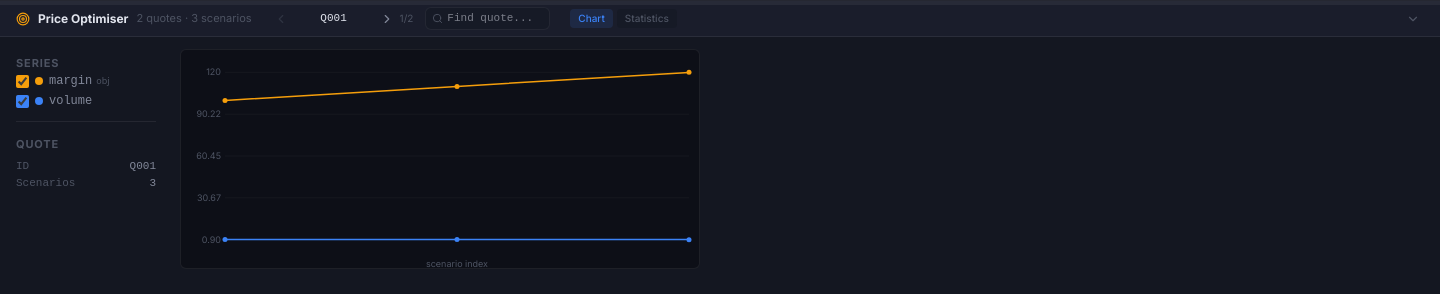
OptimiserDataPreview › Statistics tab › shows a table for each series (objective + constraints)
Step 1. Click the button "Statistics" → (647,18), box [617,9,677,28]
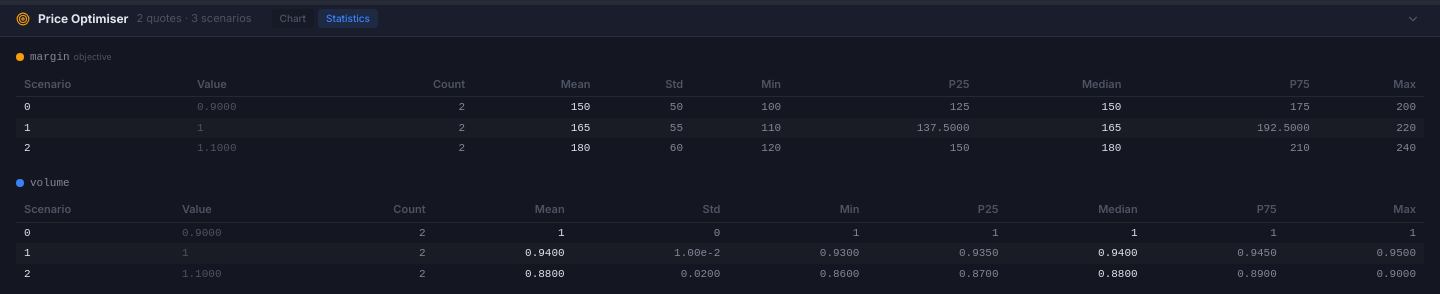
expect the text "objective" is shown: met, box [74,50,112,63]
